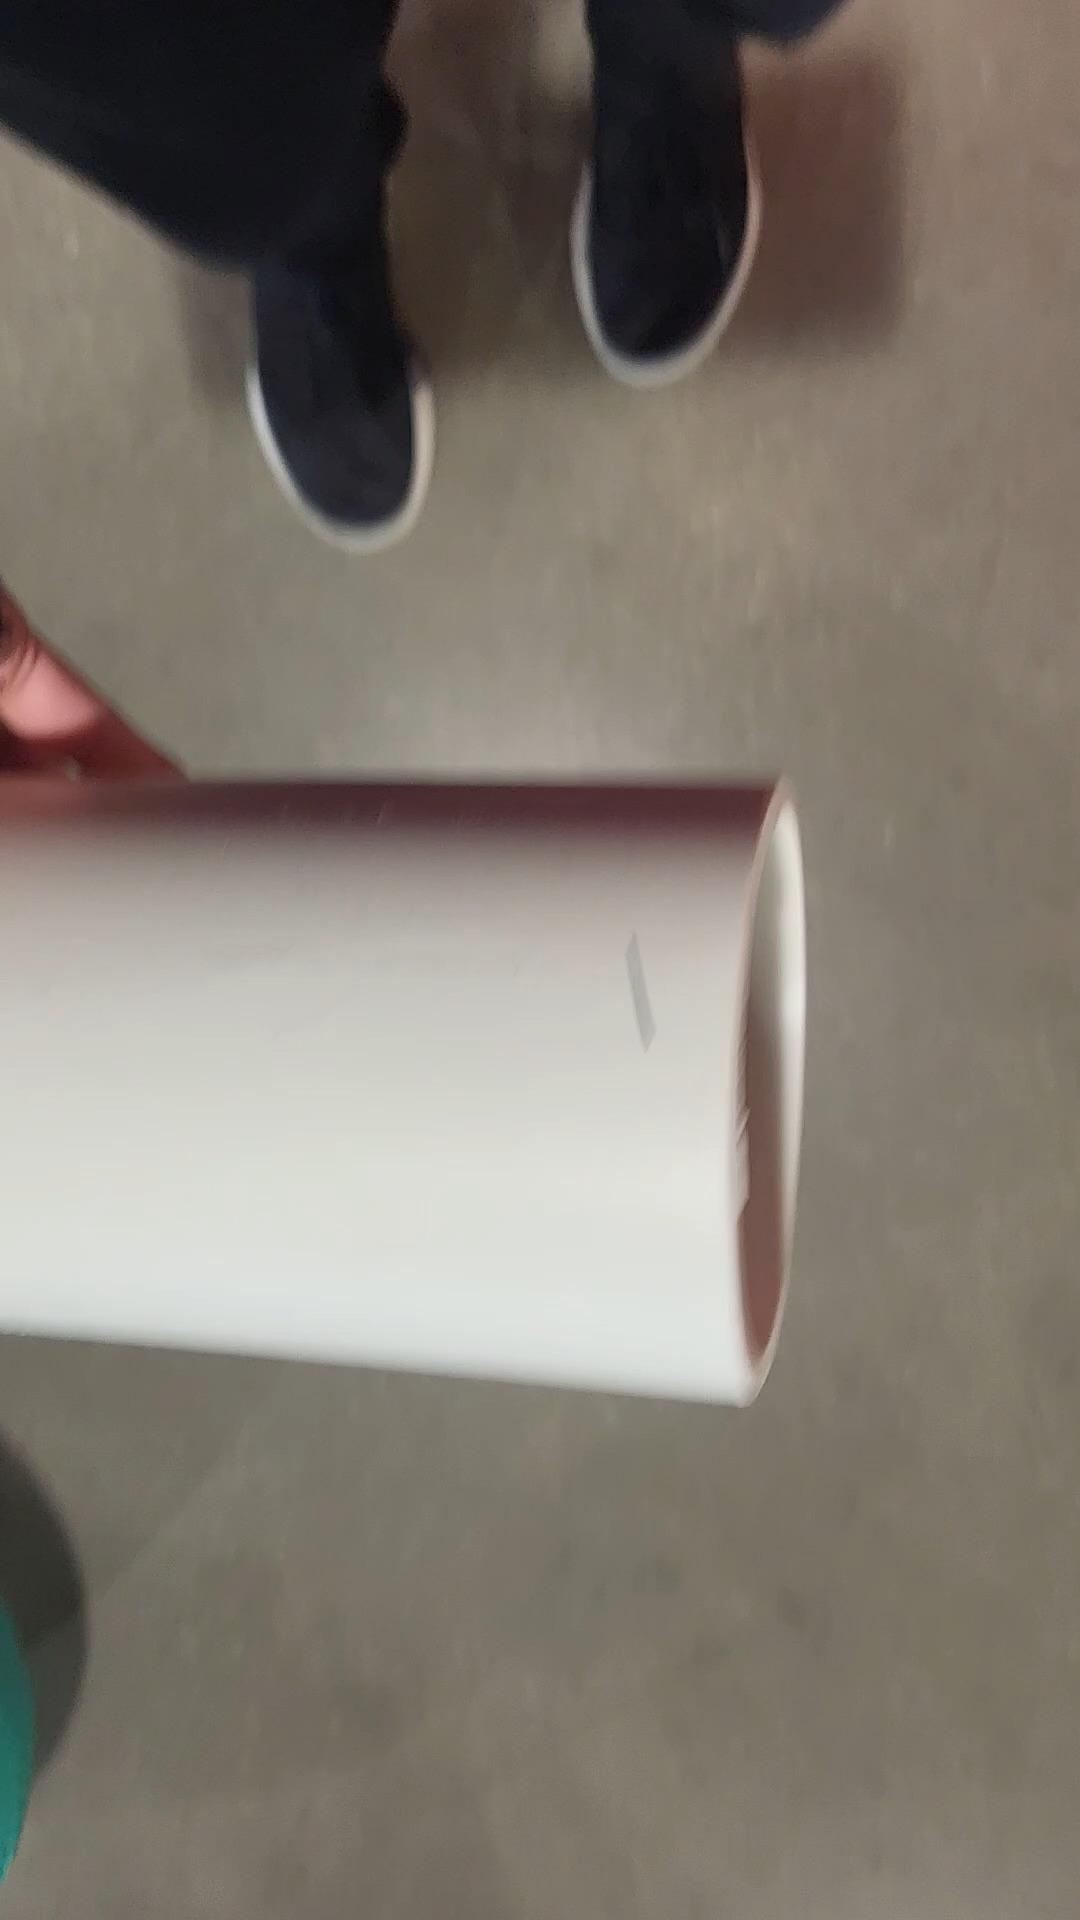coral: (0, 731, 827, 1457)
